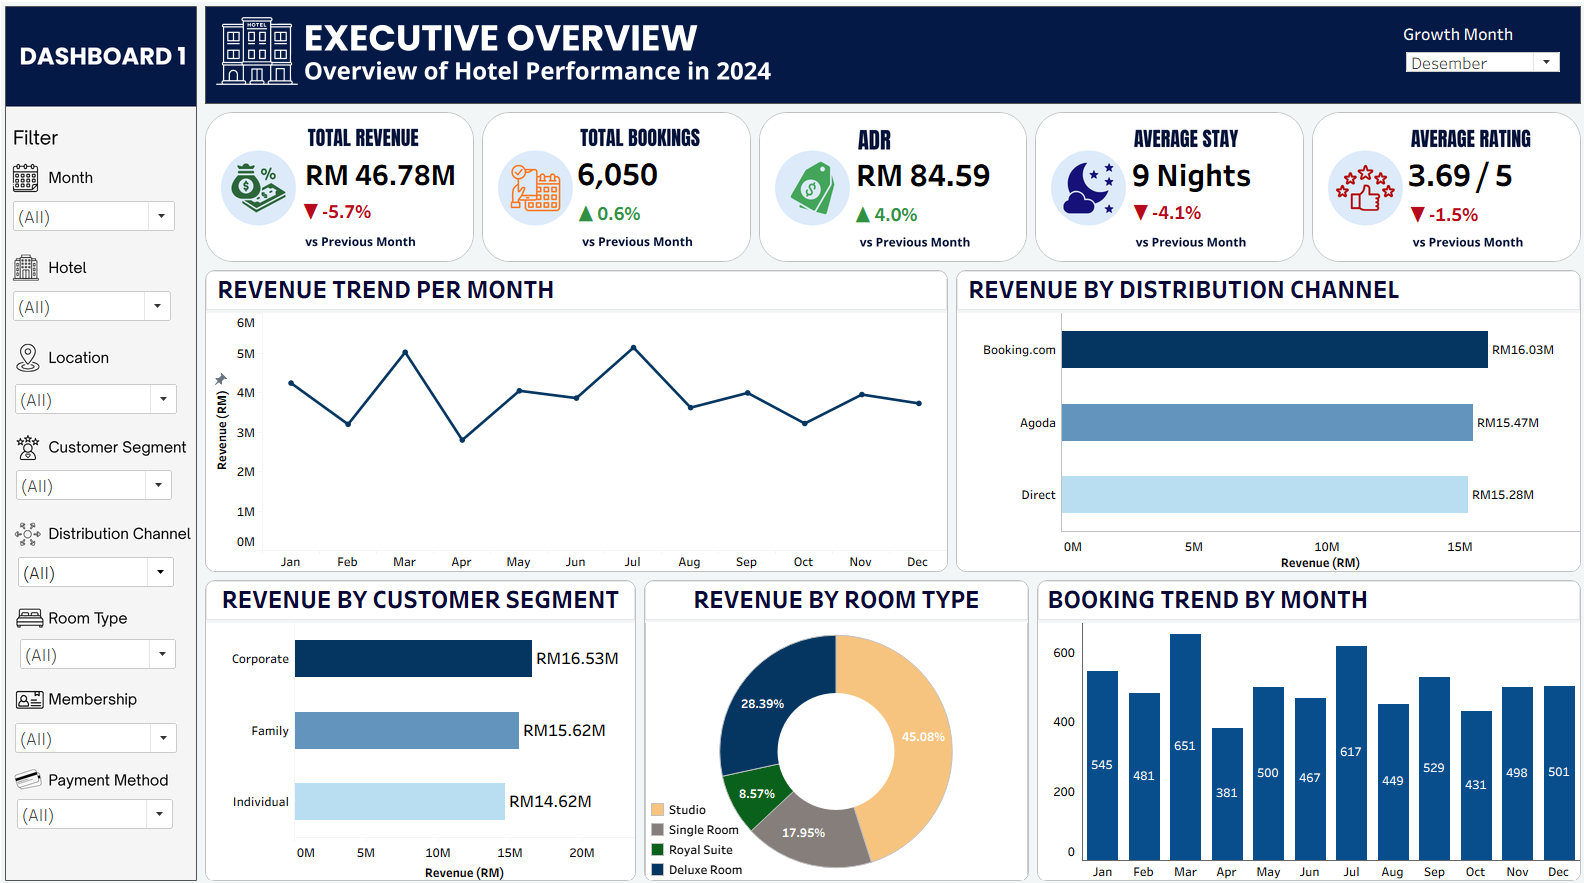

The dashboard page shown, as its layout file describes it:
{"tool":"tableau","page":{"name":"Dashboard 1","canvas":[1600,900],"ordinal":0},"visuals":[{"type":"image","param":"Image/DASHBOARD 1 (4).png","box":[8,8,199.9,884]},{"type":"image","param":"Image/Teks paragraf Anda (1).png","box":[207.9,8,1384.1,105.9]},{"type":"parameter","param":"[Parameters].[Parameter 1]","box":[1410,29,160,52]},{"type":"image","param":"Image/KPI (1).png","box":[207.9,113.9,277,158]},{"type":"image","param":"Image/KPI (2).png","box":[484.9,113.9,277.1,158]},{"type":"image","param":"Image/KPI (7).png","box":[762,113.9,275.9,158]},{"type":"image","param":"Image/KPI (4).png","box":[1037.9,113.9,277,158]},{"type":"image","param":"Image/KPI (5).png","box":[1314.9,113.9,277.1,158]},{"type":"worksheet","title":"Total Revenue","mark":"Automatic","box":[308,155,163,50]},{"type":"worksheet","title":"Avg ADR","mark":"Automatic","box":[859,157,168,46]},{"type":"worksheet","title":"Total Booking","mark":"Automatic","box":[580,158,100,42]},{"type":"worksheet","title":"RATING","mark":"Automatic","box":[1411,159,132,43]},{"type":"worksheet","title":"AVG STAY","mark":"Automatic","box":[1135,162,136,37]},{"type":"worksheet","title":"Revenue Growth","mark":"Automatic","box":[306,199,104,37]},{"type":"worksheet","title":"Booking Growth","mark":"Automatic","box":[581,201,98,36]},{"type":"worksheet","title":"Stay Growth","mark":"Automatic","box":[1136,202,91,32]},{"type":"filter","title":"Revenue Trend","param":"[federated.0sorz6w19j6c7v100yrxr1x67bvo].[mn:arrival_date:ok]","box":[17,204,168,39]},{"type":"worksheet","title":"ADR Growth","mark":"Automatic","box":[858,205,110,30]},{"type":"worksheet","title":"Rating Growth","mark":"Automatic","box":[1413,206,117,29]},{"type":"worksheet","title":"Revenue Trend","mark":"Line","rows":["sales"],"cols":["arrival_date"],"box":[207.9,272,751.1,309.9]},{"type":"worksheet","title":"DISTRIBUTION CHANNEL","mark":"Automatic","rows":["dis_channel"],"cols":["Calculation_1626750044209154"],"box":[959,272,633,309.9]},{"type":"filter","title":"Revenue Trend","param":"[federated.0sorz6w19j6c7v100yrxr1x67bvo].[none:hotel_name:nk]","box":[17,296,164,32]},{"type":"filter","title":"Revenue Trend","param":"[federated.0sorz6w19j6c7v100yrxr1x67bvo].[none:state:nk]","box":[19,389,168,32]},{"type":"filter","title":"Customer Segment","param":"[federated.0sorz6w19j6c7v100yrxr1x67bvo].[none:cus_seg:nk]","box":[20,476,162,30]},{"type":"filter","title":"DISTRIBUTION CHANNEL","param":"[federated.0sorz6w19j6c7v100yrxr1x67bvo].[none:dis_channel:nk]","box":[22,563,162,31]},{"type":"worksheet","title":"Customer Segment","mark":"Automatic","rows":["cus_seg"],"cols":["Calculation_1626750044209154"],"box":[207.9,581.9,439.1,310.1]},{"type":"worksheet","title":"ROOM TYPE","mark":"Pie","rows":["Calculation_1581945102192650","Calculation_1581945102241804"],"box":[646.9,581.9,393,310.1]},{"type":"worksheet","title":"Booking Trend","mark":"Bar","rows":["sales"],"cols":["arrival_date"],"box":[1039.9,581.9,552.1,310.1]},{"type":"filter","title":"ROOM TYPE","param":"[federated.0sorz6w19j6c7v100yrxr1x67bvo].[none:room-type:nk]","box":[24,644,162,32]},{"type":"filter","title":"Revenue Trend","param":"[federated.0sorz6w19j6c7v100yrxr1x67bvo].[none:membership:nk]","box":[19,729,168,30]},{"type":"filter","title":"Revenue Trend","param":"[federated.0sorz6w19j6c7v100yrxr1x67bvo].[none:payment_method:nk]","box":[21,805,162,31]},{"type":"legend","title":"ROOM TYPE","param":"[federated.0sorz6w19j6c7v100yrxr1x67bvo].[none:room-type:nk]","box":[654,805,101,80]}]}

Visuals, with their boxes in screenshot pixels (x1, y1, x2, y2), scaled from the page's 1600x900 canvas onto the 1584x883 screenshot:
image: 8:8:206:875
image: 206:8:1576:112
parameter: 1396:28:1554:79
image: 206:112:480:267
image: 480:112:754:267
image: 754:112:1028:267
image: 1028:112:1302:267
image: 1302:112:1576:267
"Total Revenue" worksheet: 305:152:466:201
"Avg ADR" worksheet: 850:154:1017:199
"Total Booking" worksheet: 574:155:673:196
"RATING" worksheet: 1397:156:1528:198
"AVG STAY" worksheet: 1124:159:1258:195
"Revenue Growth" worksheet: 303:195:406:232
"Booking Growth" worksheet: 575:197:672:233
"Stay Growth" worksheet: 1125:198:1215:230
"Revenue Trend" filter: 17:200:183:238
"ADR Growth" worksheet: 849:201:958:231
"Rating Growth" worksheet: 1399:202:1515:231
"Revenue Trend" worksheet (Line marks): 206:267:949:571
"DISTRIBUTION CHANNEL" worksheet: 949:267:1576:571
"Revenue Trend" filter: 17:290:179:322
"Revenue Trend" filter: 19:382:185:413
"Customer Segment" filter: 20:467:180:496
"DISTRIBUTION CHANNEL" filter: 22:552:182:583
"Customer Segment" worksheet: 206:571:641:875
"ROOM TYPE" worksheet (Pie marks): 640:571:1030:875
"Booking Trend" worksheet (Bar marks): 1030:571:1576:875
"ROOM TYPE" filter: 24:632:184:663
"Revenue Trend" filter: 19:715:185:745
"Revenue Trend" filter: 21:790:181:820
"ROOM TYPE" legend: 647:790:747:868
